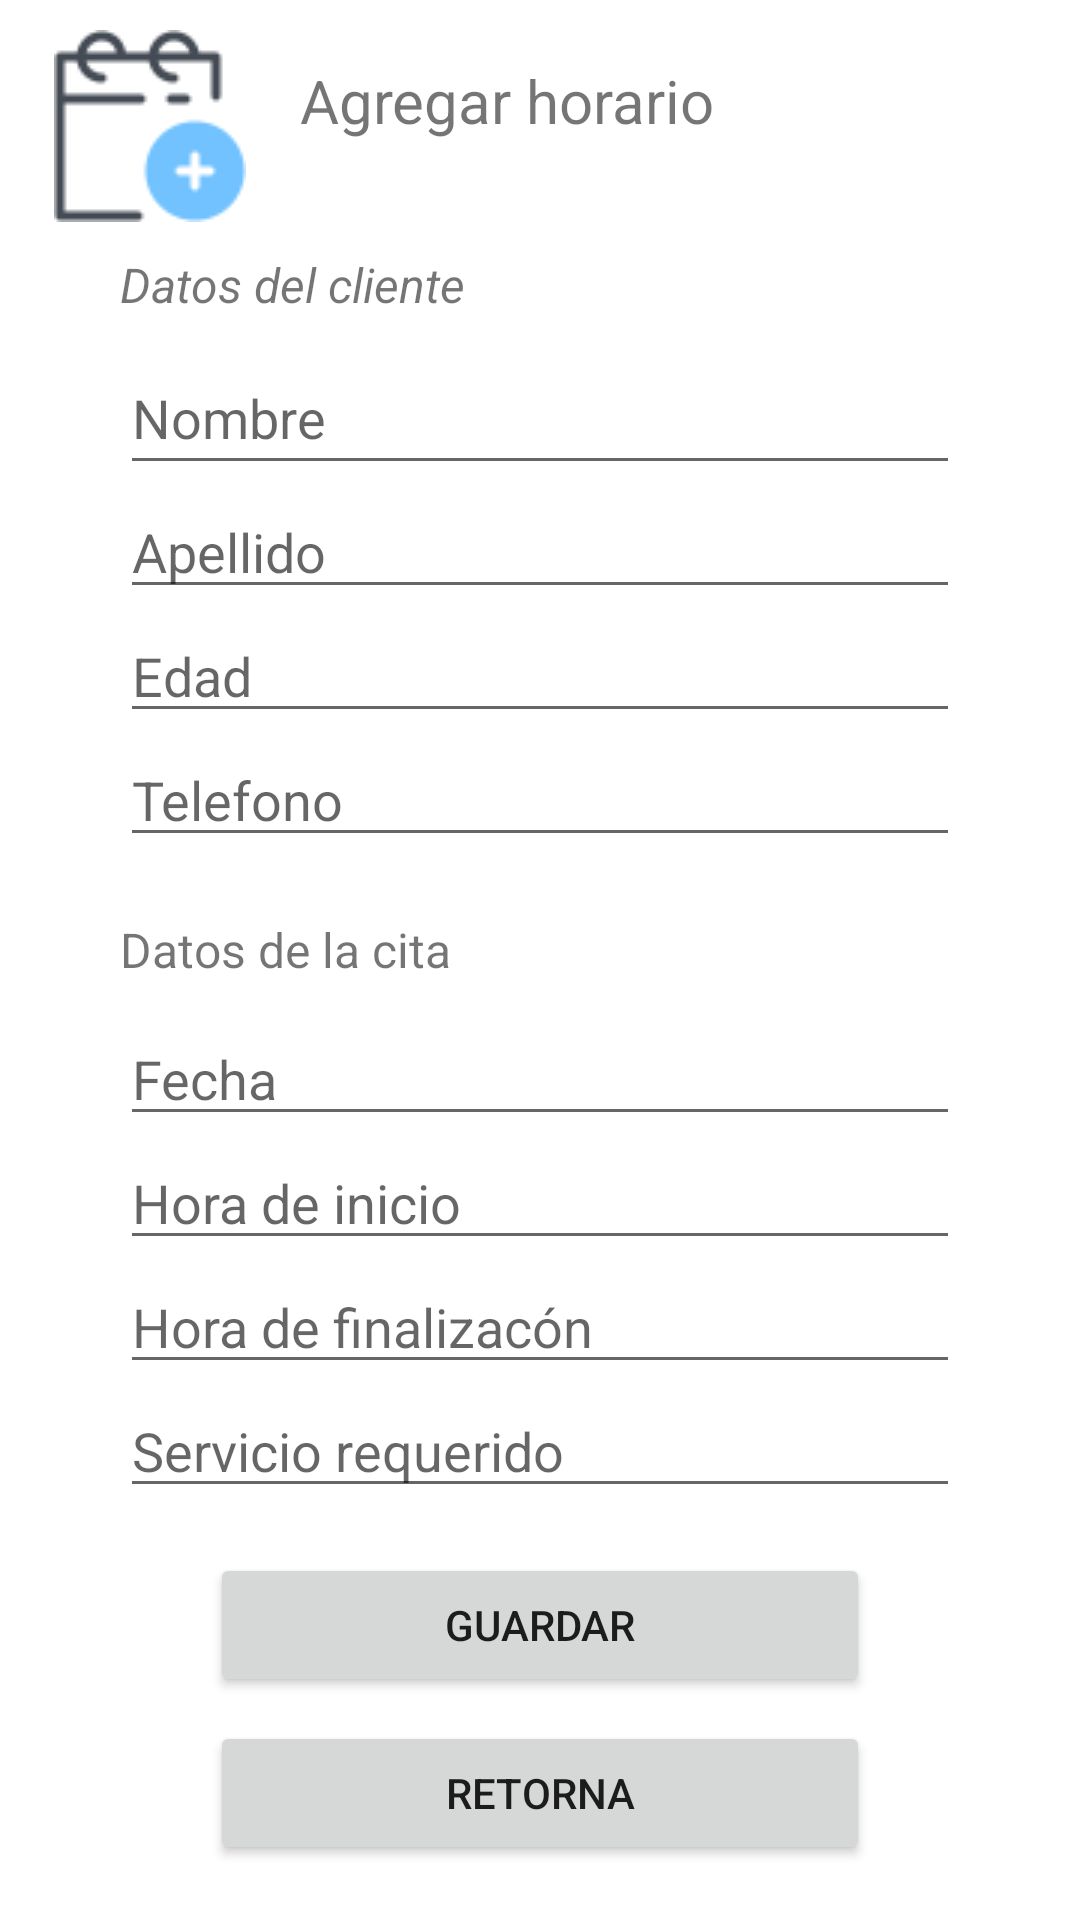

Screen size 1080x1920. Icon name, then its box in pixels as (x1,y1,x2,y2):
add: (54,30,246,222)
